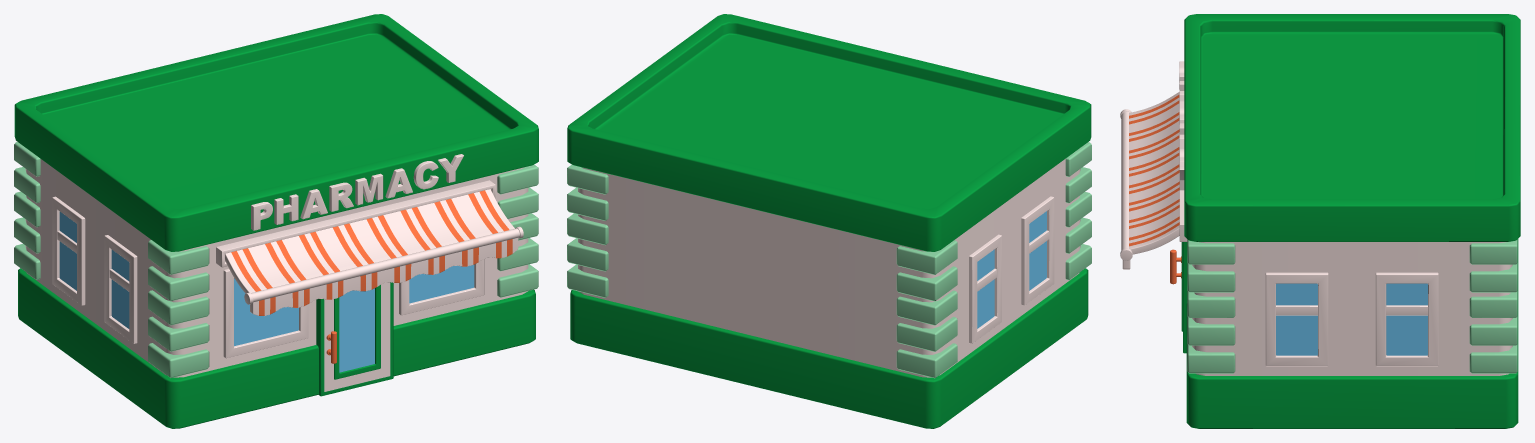
The model's file is Store_15_Pharmacy_1.glb.
3 views of the same model, side by side, from view 1: azimuth 30°, elevation 25°; view 2: azimuth 150°, elevation 25°; view 3: azimuth 270°, elevation 25° (orthographic). The views are drawn at different scales.
Parts seen in each view (by area): view 1: Store_15_Pharmacy_1; view 2: Store_15_Pharmacy_1; view 3: Store_15_Pharmacy_1.
Part boxes in pixels (bbox=[...]): Store_15_Pharmacy_1: bbox=[14, 14, 538, 428]; Store_15_Pharmacy_1: bbox=[567, 14, 1091, 428]; Store_15_Pharmacy_1: bbox=[1120, 14, 1520, 428].
Size of the model in its own units: 9.04 by 4.94 by 7.96.
1 material, 1 textured.
